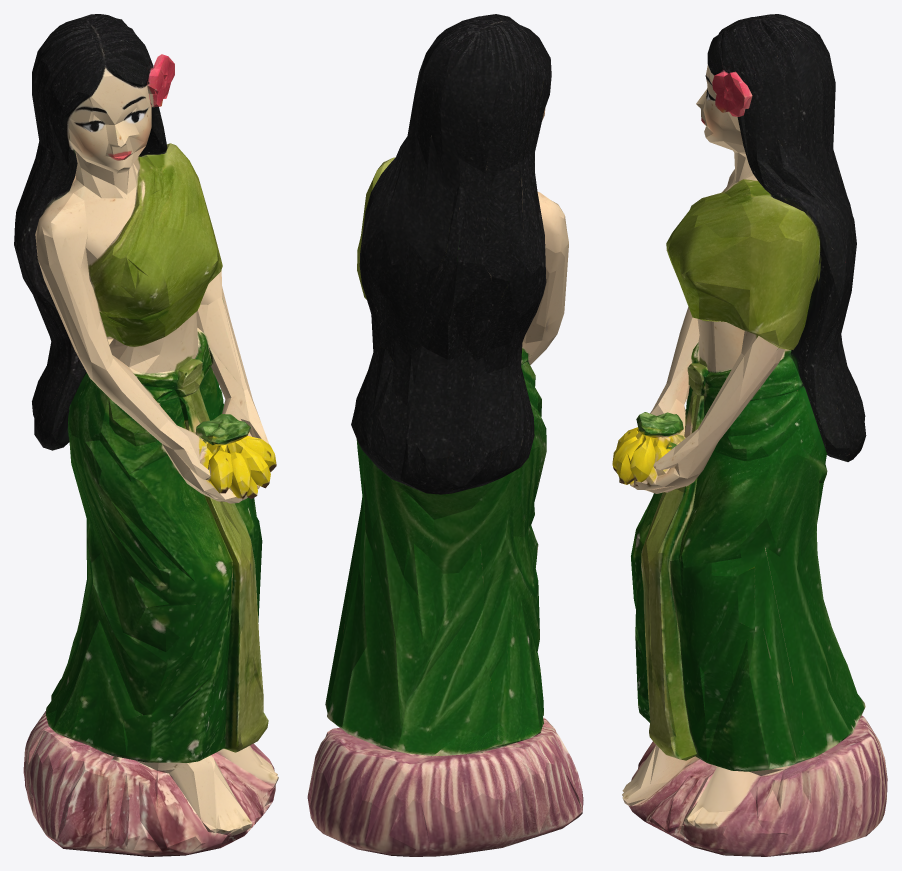
The model's file is remeshed-tani.glb.
3 renders of one model, left to right at view 1: azimuth 30°, elevation 25°; view 2: azimuth 150°, elevation 25°; view 3: azimuth 270°, elevation 25°, orthographic. The views are drawn at different scales.
Parts seen in each view (by area): view 1: output_unwrapped; view 2: output_unwrapped; view 3: output_unwrapped.
Part boxes in pixels (<box>): output_unwrapped: <box>14,14,278,856</box>; output_unwrapped: <box>307,14,583,856</box>; output_unwrapped: <box>612,14,887,856</box>.
Bounding box in the file's own units: 0.5698 × 1.9 × 0.6197.
1 material, 1 textured.
